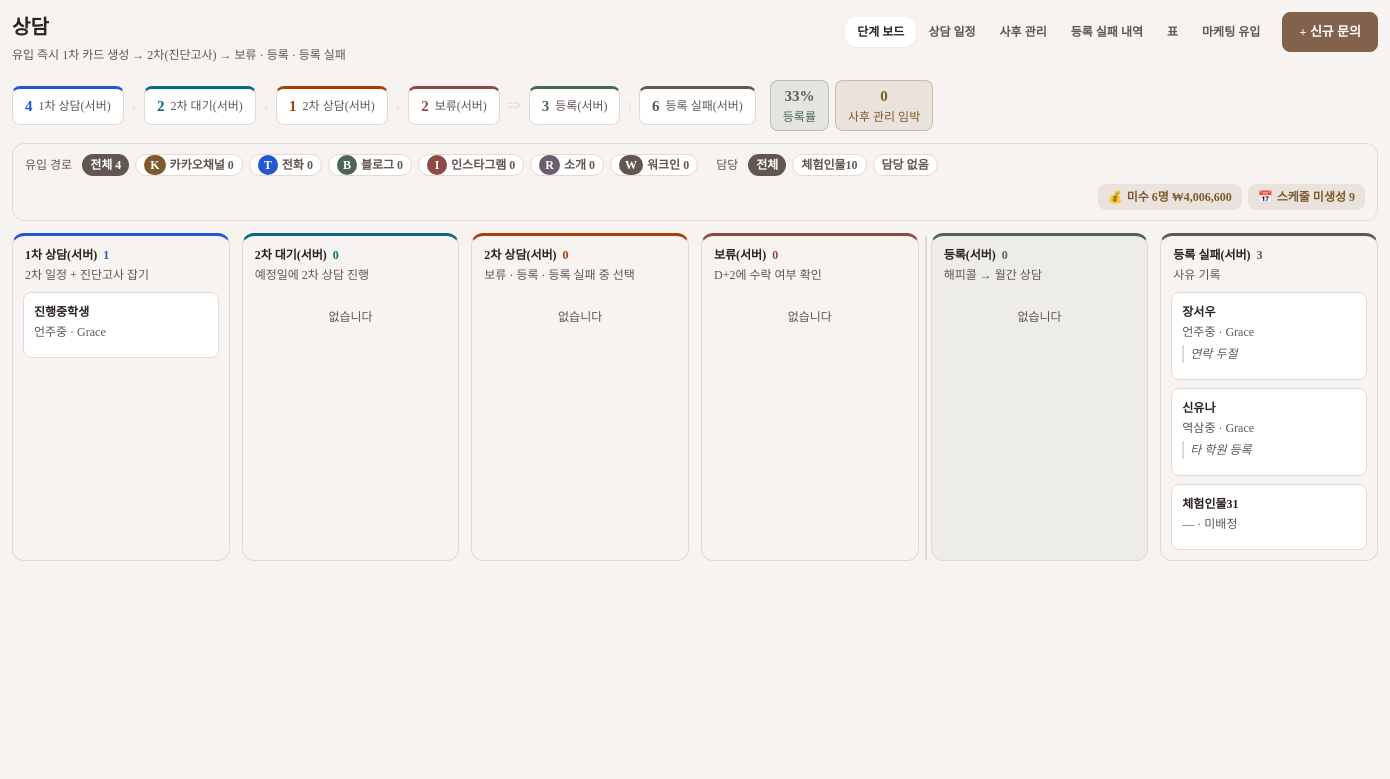
Scenario: §23 상담 머리 — 퍼널 띠 · 담당 칩 · 경고 줄 › 보드 칸과 중단 지점 낱말도 서버가 준 것을 쓴다 — 화면에 제 표가 없다
The width and height of the screenshot is (1390, 779).
Expected: the button "체험인물10" is shown, [801, 156, 858, 174]
§24 분류 카드의 낱말 · 설명 한 줄도 같은 자리에서 온다 (N-87)
What coordinates should you click on to do the following:
click the button "등록 실패 내역"
I would click on:
 (1107, 32)
Its box is [1059, 17, 1155, 47].
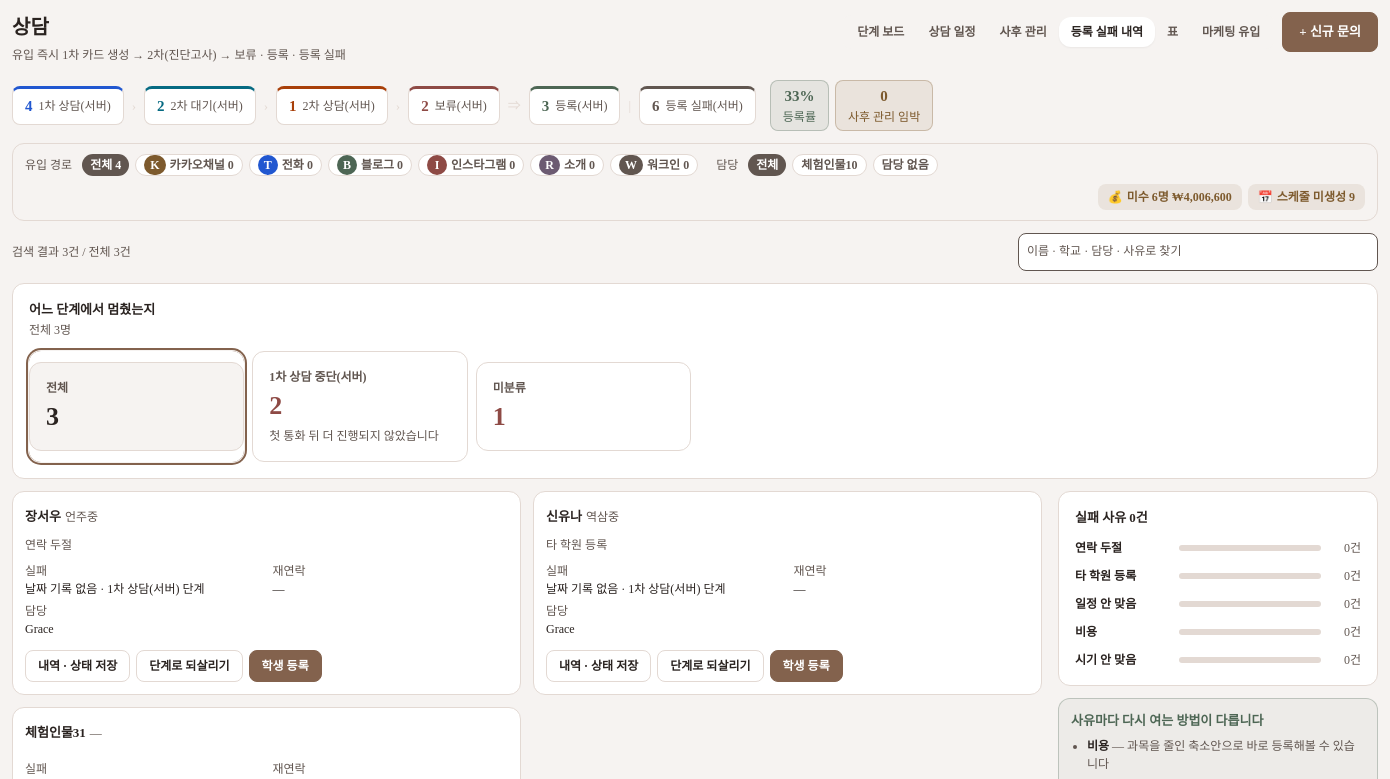
Expected: the text "1차 상담 중단(서버)" is shown, [269, 370, 367, 384]
Expected: the text "첫 통화 뒤 더 진행되지 않았습니다" is shown, [269, 426, 451, 444]
